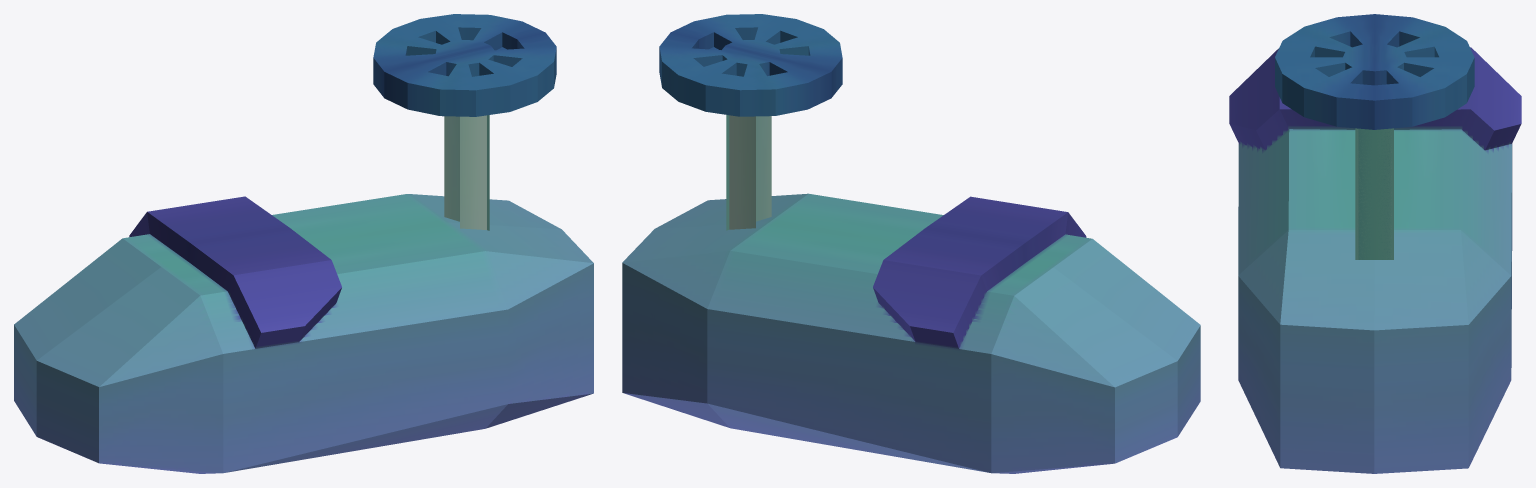
Rendered from Car.fbx.
3 renders of one model, left to right at view 1: azimuth 30°, elevation 25°; view 2: azimuth 150°, elevation 25°; view 3: azimuth 270°, elevation 25°, orthographic. The views are drawn at different scales.
Visible parts, largest first — view 1: Cube.014; view 2: Cube.014; view 3: Cube.014.
Part boxes in pixels (<box>): Cube.014: <box>14,14,593,473</box>; Cube.014: <box>622,14,1200,473</box>; Cube.014: <box>1229,14,1521,473</box>.
Size of the model in its own units: 400 by 250 by 175.
